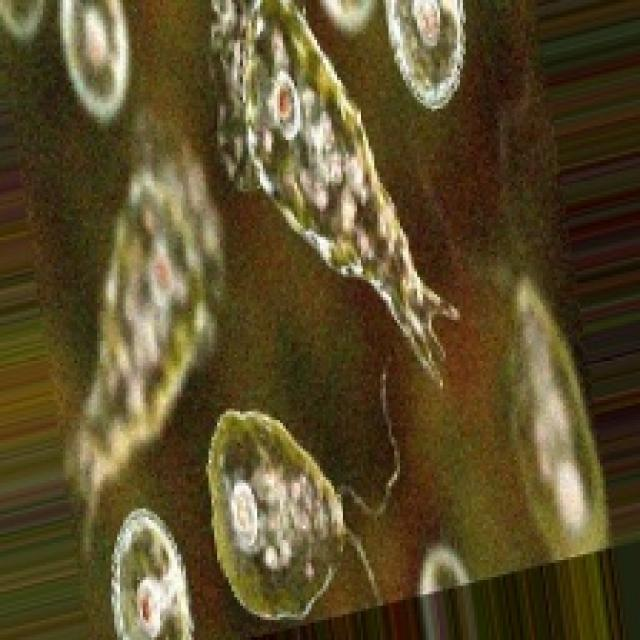Amoeba: (183, 2, 545, 390), (81, 400, 417, 640)
